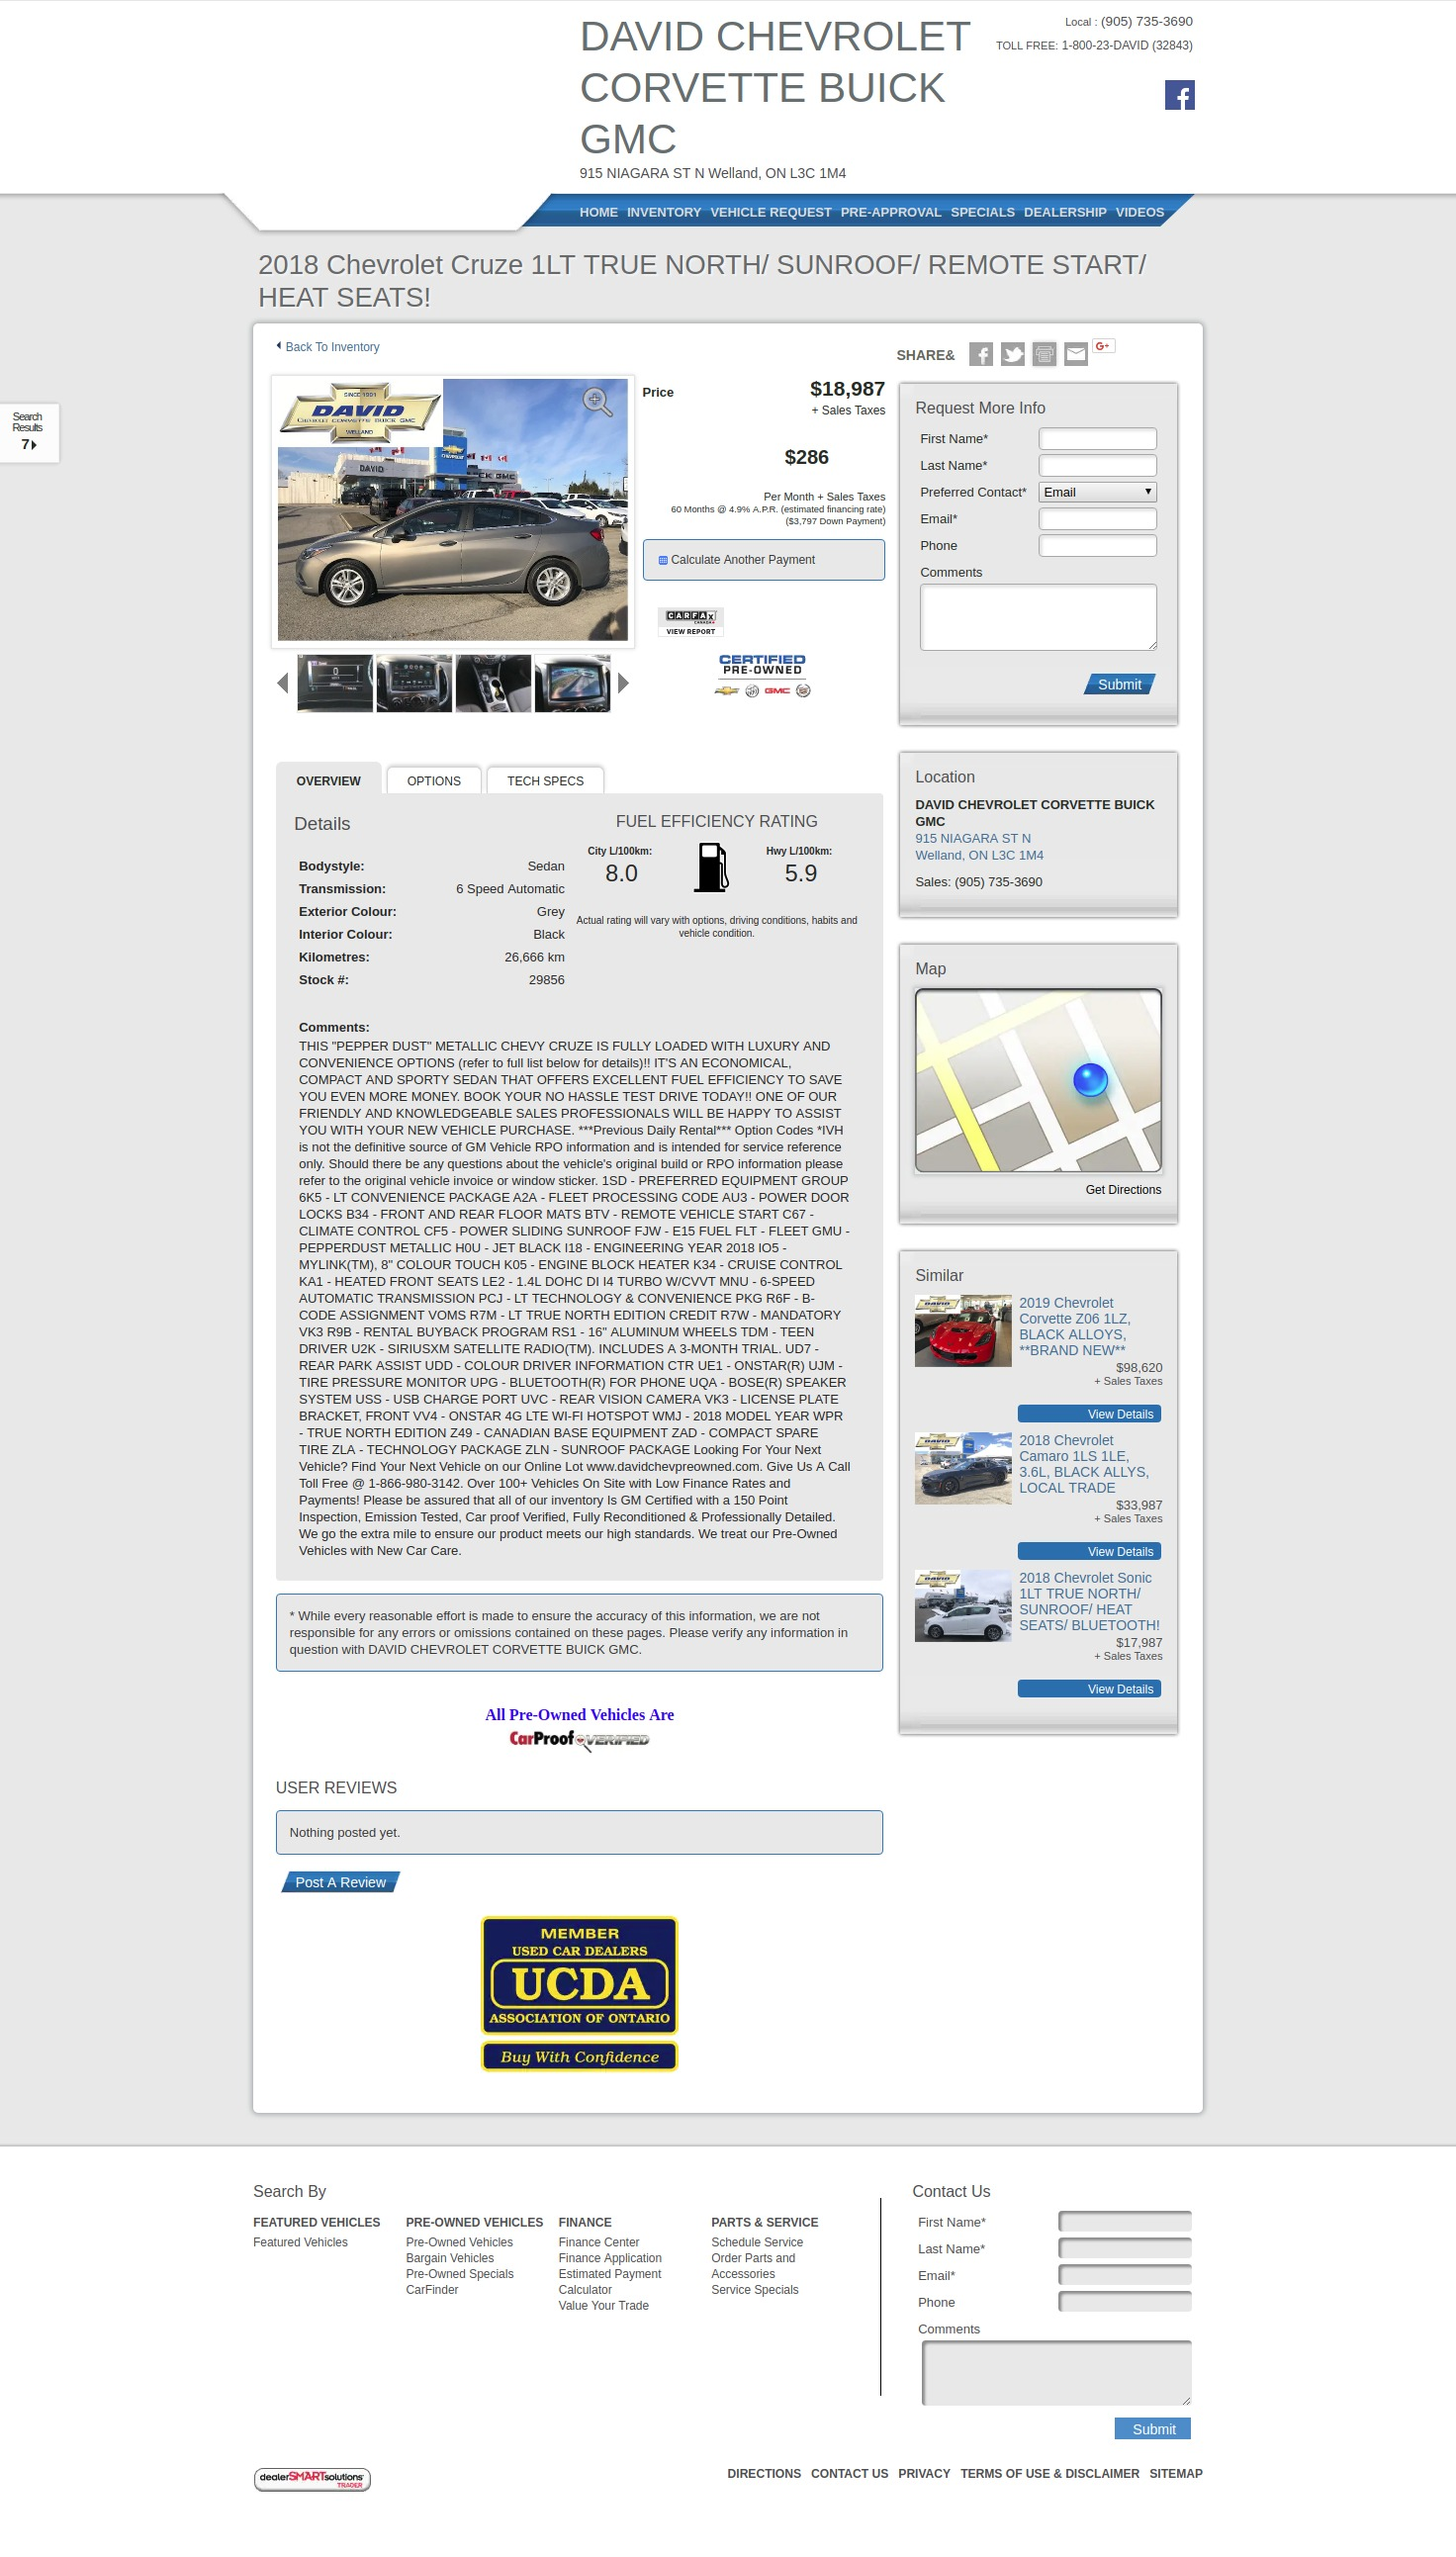car: (616, 671, 631, 697)
